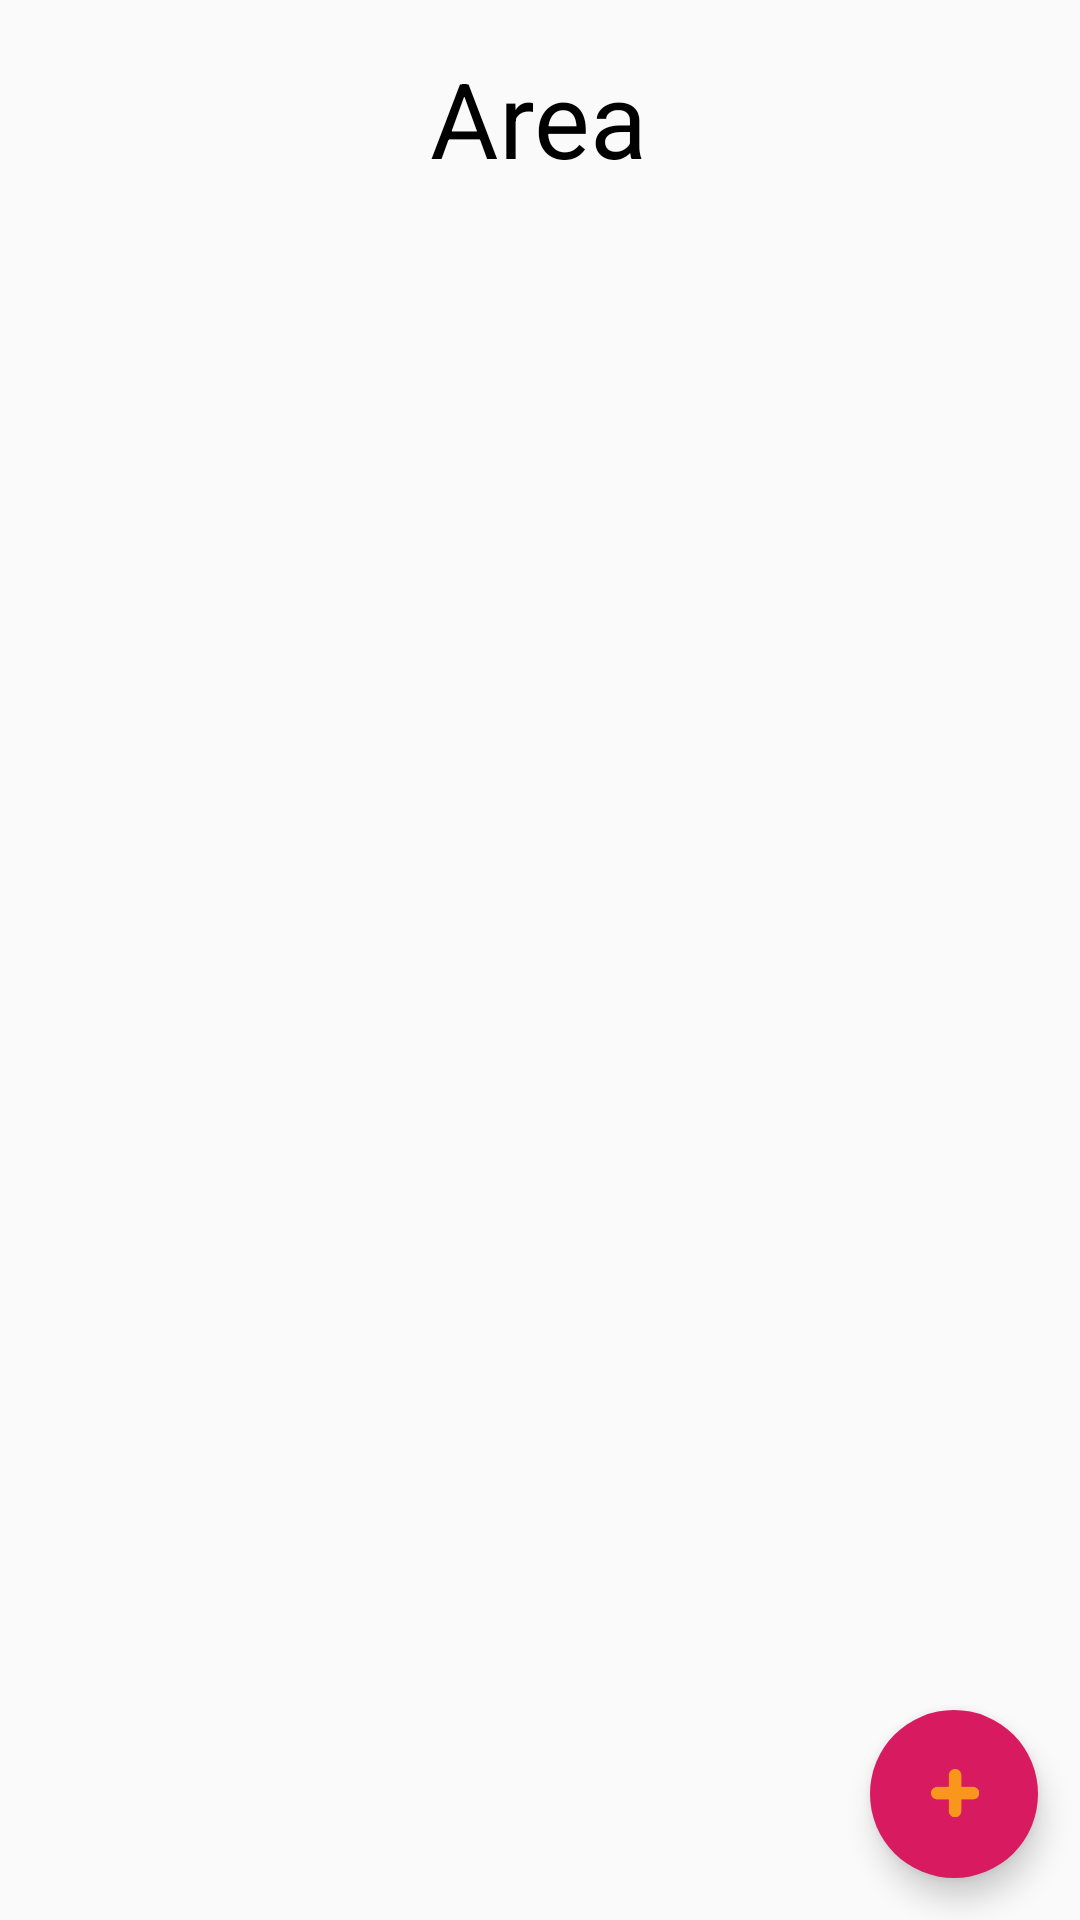

Locate icon controls on the screen. Image size 1080 x 1920, boxes as {"left": x1, "top": y1, "right": x2, "bottom": y2}.
add: {"left": 870, "top": 1710, "right": 1038, "bottom": 1878}
